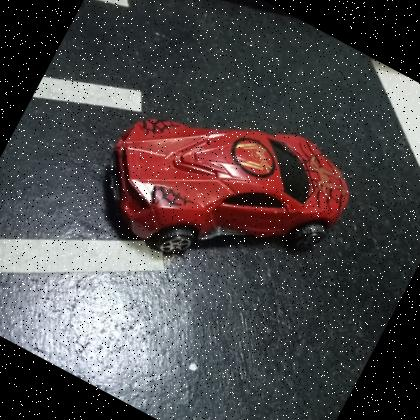Car: (102, 119, 349, 259)
